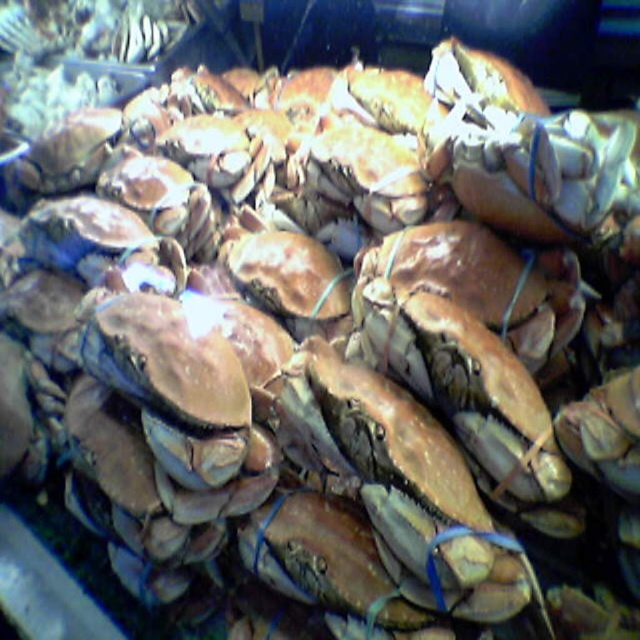Crab: (0, 1, 637, 639)
